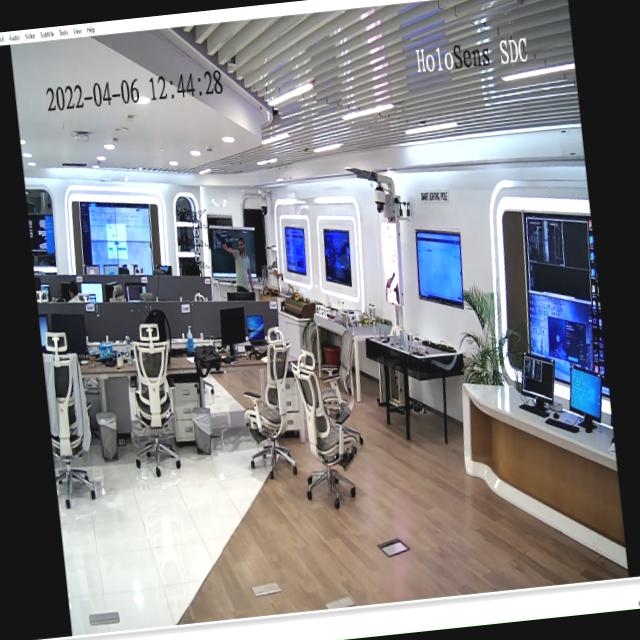long weapon: (211, 221, 237, 267)
